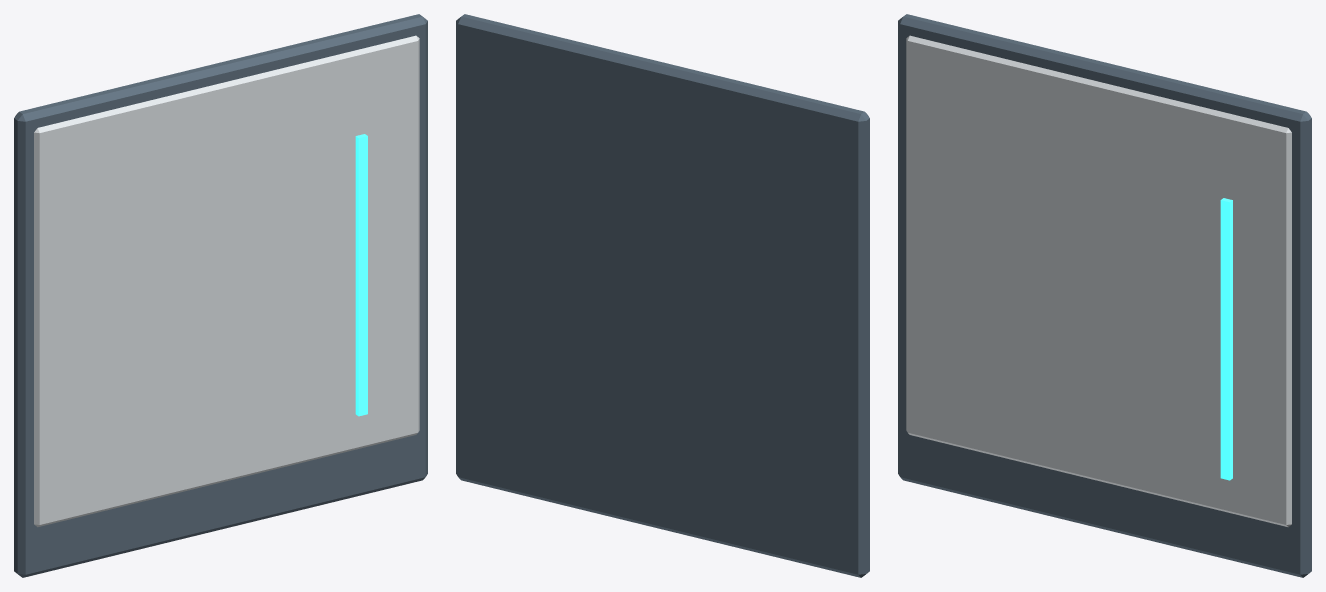
Rendered from base-DoorDouble.fbx.
3 views of the same model, side by side, from view 1: azimuth 30°, elevation 25°; view 2: azimuth 150°, elevation 25°; view 3: azimuth 330°, elevation 25° (orthographic).
Visible parts, largest first — view 1: base-DoorDouble_Inset.001, base-DoorDouble_Leaf.001, base-DoorDouble_Door status.001; view 2: base-DoorDouble_Leaf.001; view 3: base-DoorDouble_Inset.001, base-DoorDouble_Leaf.001, base-DoorDouble_Door status.001.
Boxes of the visible parts, <box> form: base-DoorDouble_Inset.001: <box>34,35,419,527</box>; base-DoorDouble_Leaf.001: <box>14,14,427,577</box>; base-DoorDouble_Door status.001: <box>355,134,367,416</box>; base-DoorDouble_Leaf.001: <box>456,14,869,577</box>; base-DoorDouble_Inset.001: <box>906,35,1291,527</box>; base-DoorDouble_Leaf.001: <box>898,14,1311,577</box>; base-DoorDouble_Door status.001: <box>1220,198,1232,480</box>.
Bounding box in the file's own units: 200 × 216 × 13.25.
